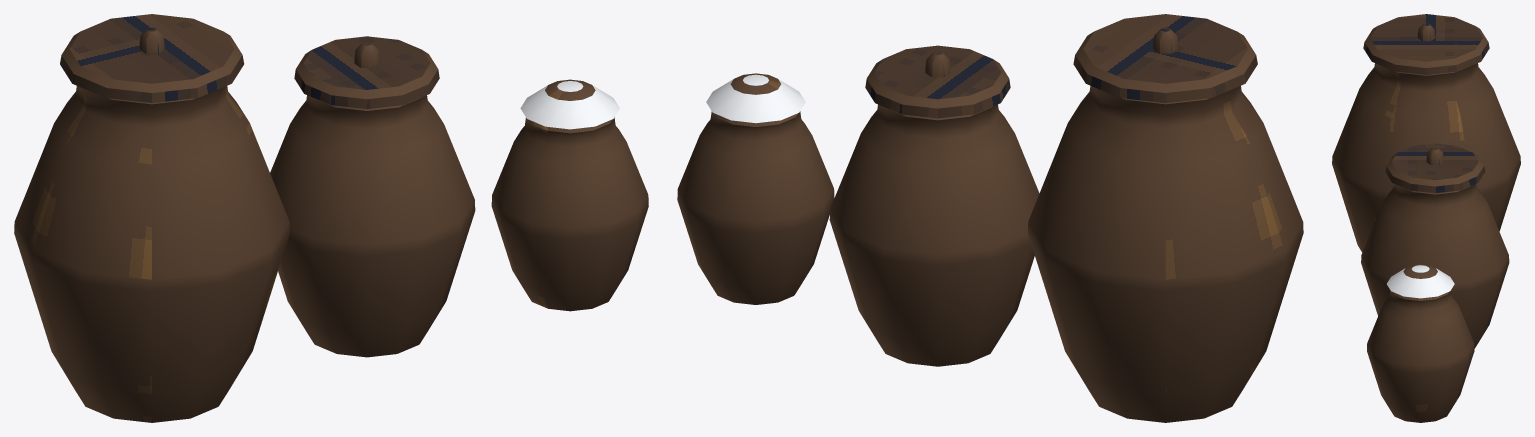
Rendered from cn_pickle_jars_0.glb.
3 views of the same model, side by side, from view 1: azimuth 30°, elevation 25°; view 2: azimuth 150°, elevation 25°; view 3: azimuth 270°, elevation 25° (orthographic). The views are drawn at different scales.
Parts seen in each view (by area): view 1: cn_pickle_jars_1; view 2: cn_pickle_jars_1; view 3: cn_pickle_jars_1.
Part boxes in pixels (x1=…): cn_pickle_jars_1: x1=14, y1=14, x2=648, y2=422; cn_pickle_jars_1: x1=677, y1=14, x2=1303, y2=422; cn_pickle_jars_1: x1=1332, y1=14, x2=1520, y2=422.
Bounding box in the file's own units: 1.64 × 0.94 × 0.6513.
3 materials, 3 textured.
